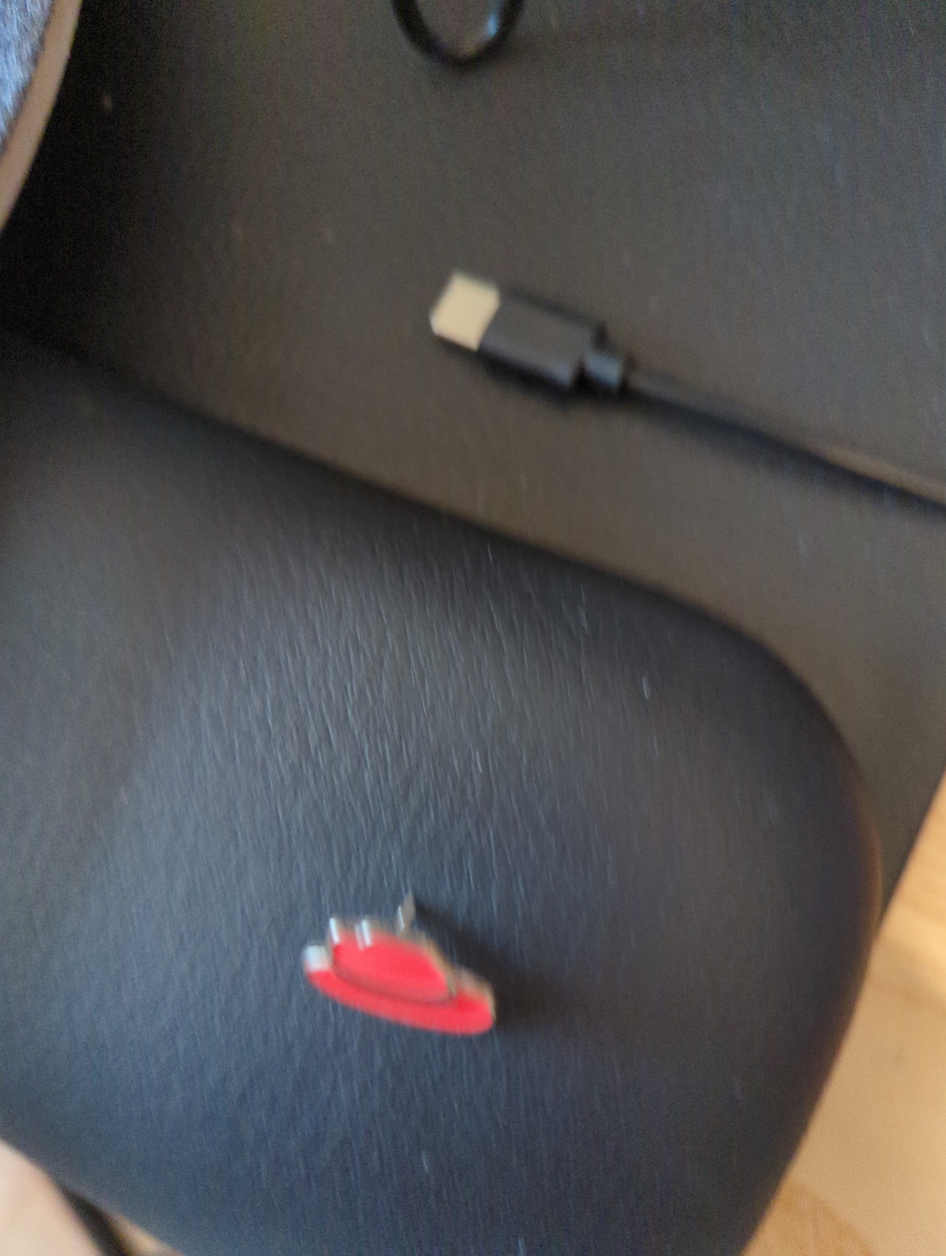Red-Hat: (216, 797, 585, 1112)
